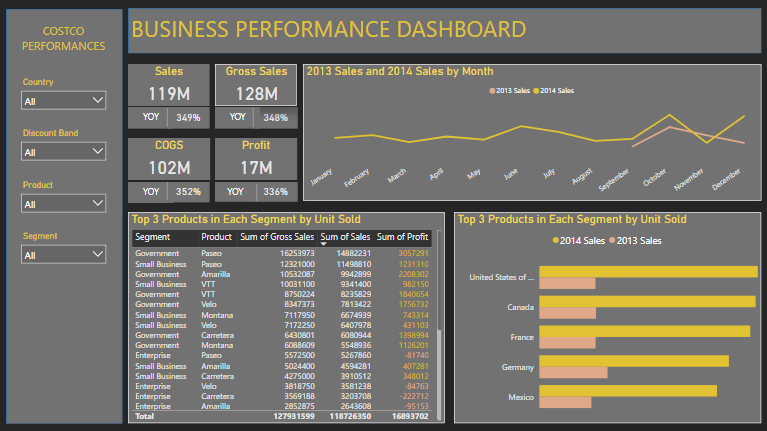

What the dashboard file says about the page in this screenshot:
{"tool":"powerbi","page":{"name":"Page 1","canvas":[1280,720],"ordinal":0},"visuals":[{"type":"shape","box":[10,14.3,194.3,691.4],"z":0},{"type":"textbox","box":[213.8,178.8,76.3,36.2],"z":1000,"group":"g1"},{"type":"card","title":"Sales","fields":{"Values":["ALL MEASURES. Sales YoY%"]},"box":[278.8,178.8,71.2,36.2],"z":1000},{"type":"textbox","box":[358.8,178.8,75.2,36.2],"z":1000,"group":"g2"},{"type":"textbox","box":[358.8,302.5,67.6,32.5],"z":1000,"group":"g3"},{"type":"card","title":"Sales","fields":{"Values":["ALL MEASURES.Gross Sales YoY%"]},"box":[422.5,178.8,72.5,36.2],"z":2000},{"type":"shape","box":[256.4,179.9,44.9,31.7],"z":2000,"group":"g1"},{"type":"shape","box":[400.8,179.9,44.2,31.7],"z":2000,"group":"g2"},{"type":"shape","box":[416.3,305,22.5,28.8],"z":2000,"group":"g3"},{"type":"card","title":"Sales","fields":{"Values":["ALL MEASURES.Profit YoY%"]},"box":[423.8,302.5,72.5,32.5],"z":3000},{"type":"card","title":"Sales","fields":{"Values":["ALL MEASURES.COGS YoY%"]},"box":[278.6,302.9,71.4,34.3],"z":4000},{"type":"shape","box":[214,14,1056,76],"z":5000},{"type":"textbox","box":[213.8,302.5,76.2,35],"z":6000},{"type":"textbox","box":[214,16,736,74],"z":7000},{"type":"shape","box":[256.7,303.3,44.4,31.1],"z":8000},{"type":"card","title":"Sales","fields":{"Values":["Sum(financials. Sales)"]},"box":[214,106,136,70],"z":9000},{"type":"card","title":"COGS","fields":{"Values":["Sum(financials.COGS)"]},"box":[213.3,229.8,136.7,70],"z":10000},{"type":"card","title":"Profit","fields":{"Values":["Sum(financials.Profit)"]},"box":[359.1,230.2,136.7,70],"z":11000},{"type":"card","title":"Gross Sales","fields":{"Values":["Sum(financials.Gross Sales)"]},"box":[358.7,106.7,136.2,70],"z":12000},{"type":"group","id":"g1","title":"Group 2","box":[213.8,178.8,87.5,36.2],"z":13000},{"type":"group","id":"g2","title":"Group 2","box":[358.8,178.8,86.2,36.2],"z":14000},{"type":"group","id":"g3","title":"Group 2","box":[358.8,302.5,80,32.5],"z":15000},{"type":"lineChart","fields":{"Category":["financials.Date.Variation.Date Hierarchy.Month"],"Y":["ALL MEASURES.2013 Sales","ALL MEASURES.2014 Sales"]},"box":[505,106.2,763.8,227.5],"z":16000},{"type":"tableEx","title":"Top 3 Products in Each Segment by Unit Sold","fields":{"Values":["financials.Segment","financials.Product","Sum(financials.Gross Sales)","Sum(financials. Sales)","Sum(financials.Profit)"]},"box":[214,354,528,352],"z":17000},{"type":"clusteredBarChart","title":"Top 3 Products in Each Segment by Unit Sold","fields":{"Category":["financials.Country"],"Y":["ALL MEASURES.2014 Sales","ALL MEASURES.2013 Sales"]},"box":[756,354,512,352],"z":18000},{"type":"textbox","box":[25,33.3,161.7,73.3],"z":19000},{"type":"slicer","fields":{"Values":["financials.Country"]},"box":[25,122.5,161.7,70],"z":19001},{"type":"slicer","fields":{"Values":["financials.Discount Band"]},"box":[25,208.4,161.7,70],"z":19002},{"type":"slicer","fields":{"Values":["financials.Product"]},"box":[25,294.2,161.7,70],"z":19003},{"type":"slicer","fields":{"Values":["financials.Segment"]},"box":[25,380,161.7,70],"z":19004}]}

Visuals, with their boxes in screenshot pixels (x1, y1, x2, y2), scaled from the page's 1280x720 canvas onto the 767x431 screenshot:
shape: (6, 9, 122, 422)
textbox: (128, 107, 174, 129)
"Sales" card: (167, 107, 210, 129)
textbox: (215, 107, 260, 129)
textbox: (215, 181, 256, 201)
"Sales" card: (253, 107, 297, 129)
shape: (154, 108, 181, 127)
shape: (240, 108, 267, 127)
shape: (249, 183, 263, 200)
"Sales" card: (254, 181, 297, 201)
"Sales" card: (167, 181, 210, 202)
shape: (128, 8, 761, 54)
textbox: (128, 181, 174, 202)
textbox: (128, 10, 569, 54)
shape: (154, 182, 180, 200)
"Sales" card: (128, 63, 210, 105)
"COGS" card: (128, 138, 210, 179)
"Profit" card: (215, 138, 297, 180)
"Gross Sales" card: (215, 64, 297, 106)
"Group 2" group: (128, 107, 181, 129)
"Group 2" group: (215, 107, 267, 129)
"Group 2" group: (215, 181, 263, 201)
lineChart - financials.Date.Variation.Date Hierarchy.Month x ALL MEASURES.2013 Sales: (303, 64, 760, 200)
"Top 3 Products in Each Segment by Unit Sold" tableEx: (128, 212, 445, 423)
"Top 3 Products in Each Segment by Unit Sold" clusteredBarChart: (453, 212, 760, 423)
textbox: (15, 20, 112, 64)
slicer - financials.Country: (15, 73, 112, 115)
slicer - financials.Discount Band: (15, 125, 112, 167)
slicer - financials.Product: (15, 176, 112, 218)
slicer - financials.Segment: (15, 227, 112, 269)
